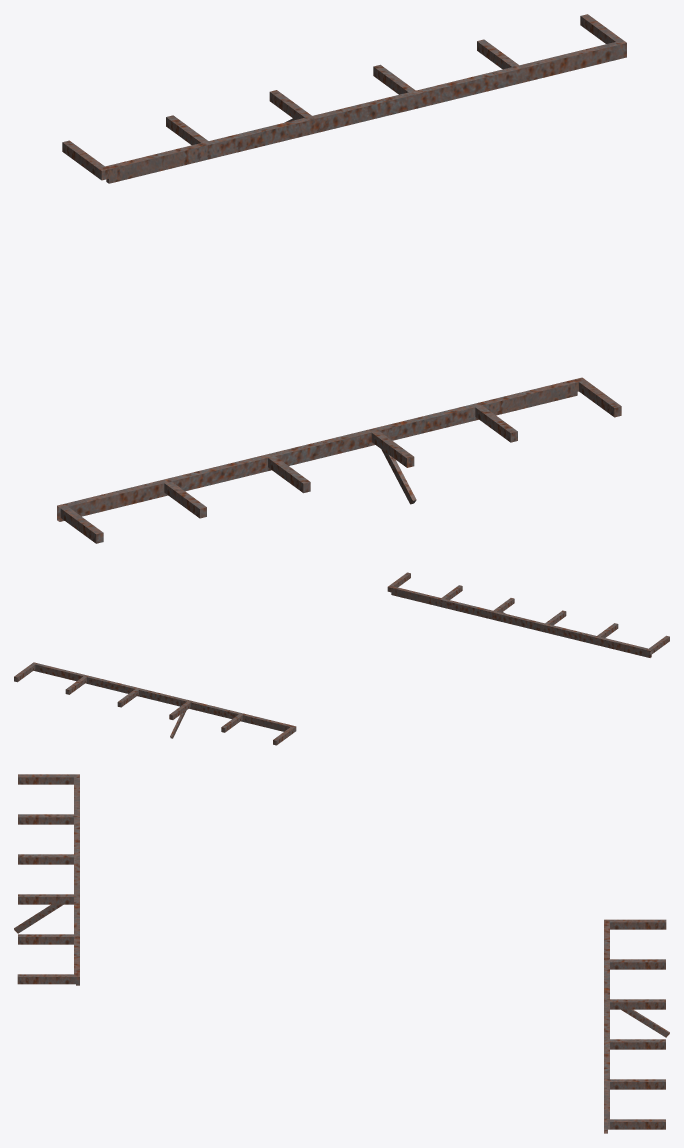
The model's file is SM_NeoLD_07_Metal_00.fbx.
The picture shows the model from 3 angles, top to bottom: view 1: azimuth 30°, elevation 25°; view 2: azimuth 150°, elevation 25°; view 3: azimuth 270°, elevation 25°; orthographic projection. The views are drawn at different scales.
Parts seen in each view (by area): view 1: SM_NeoLD_07_Metal_00; view 2: SM_NeoLD_07_Metal_00; view 3: SM_NeoLD_07_Metal_00.
Boxes of the visible parts, <box> form: SM_NeoLD_07_Metal_00: <box>57,14,626,543</box>; SM_NeoLD_07_Metal_00: <box>14,572,669,745</box>; SM_NeoLD_07_Metal_00: <box>14,774,669,1133</box>.
Bounding box in the file's own units: 2775 × 137 × 2213.
